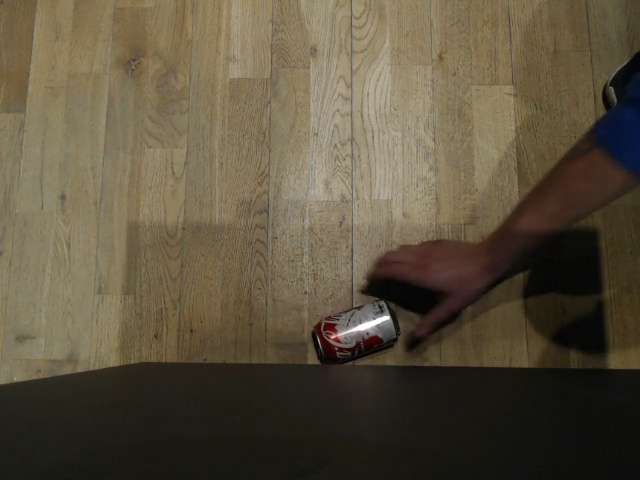cola: (311, 294, 402, 365)
